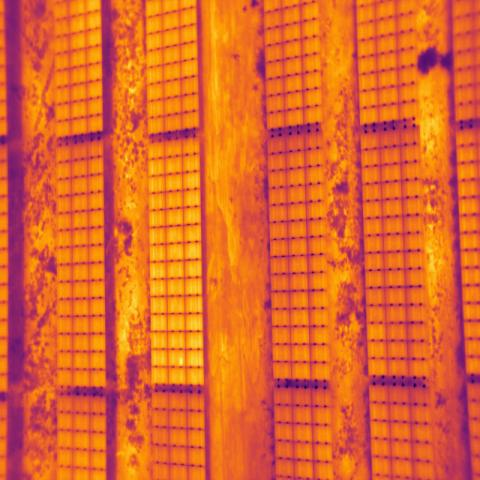fault: (168, 349, 186, 368)
